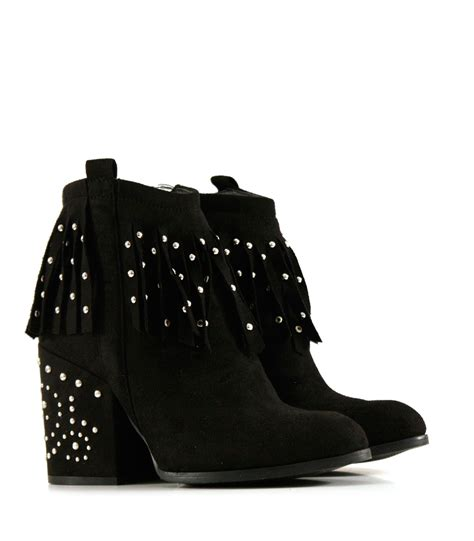gamuza: (26, 156, 426, 471)
